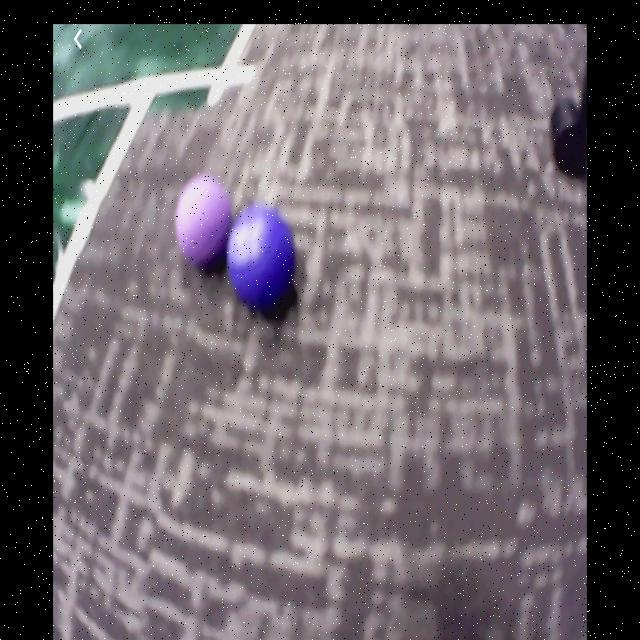ball: (230, 209, 298, 315), (176, 169, 233, 275)
